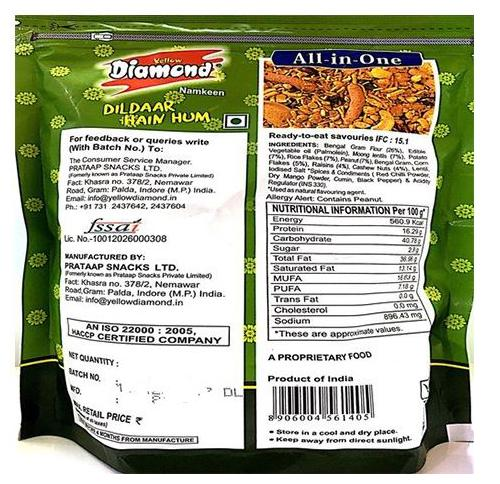fssai: (85, 217, 140, 233)
